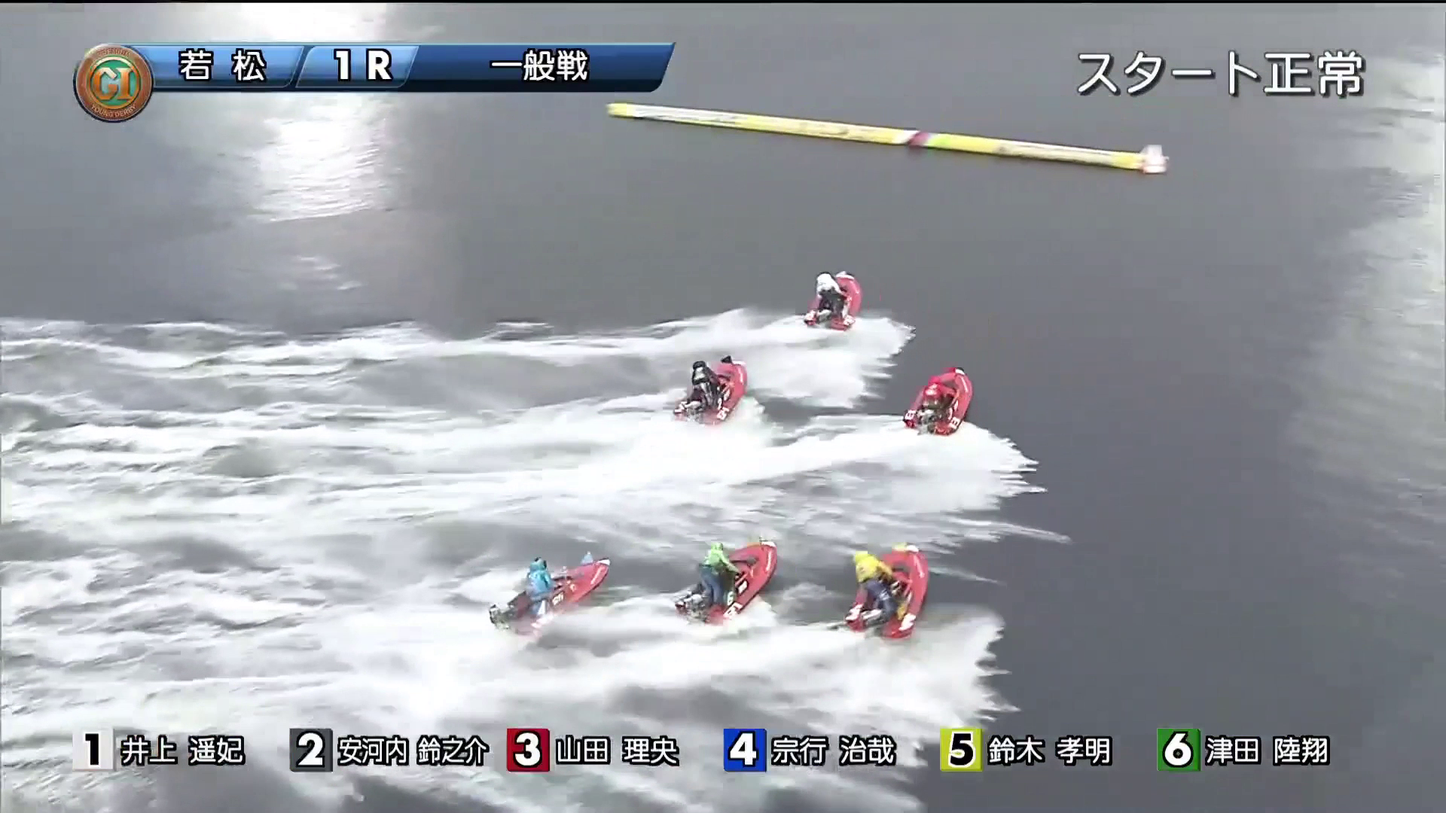１号艇: (782, 269, 886, 323)
２号艇: (648, 355, 776, 415)
３号艇: (879, 382, 998, 429)
４号艇: (640, 541, 774, 606)
５号艇: (453, 566, 577, 621)
６号艇: (829, 547, 929, 604)
